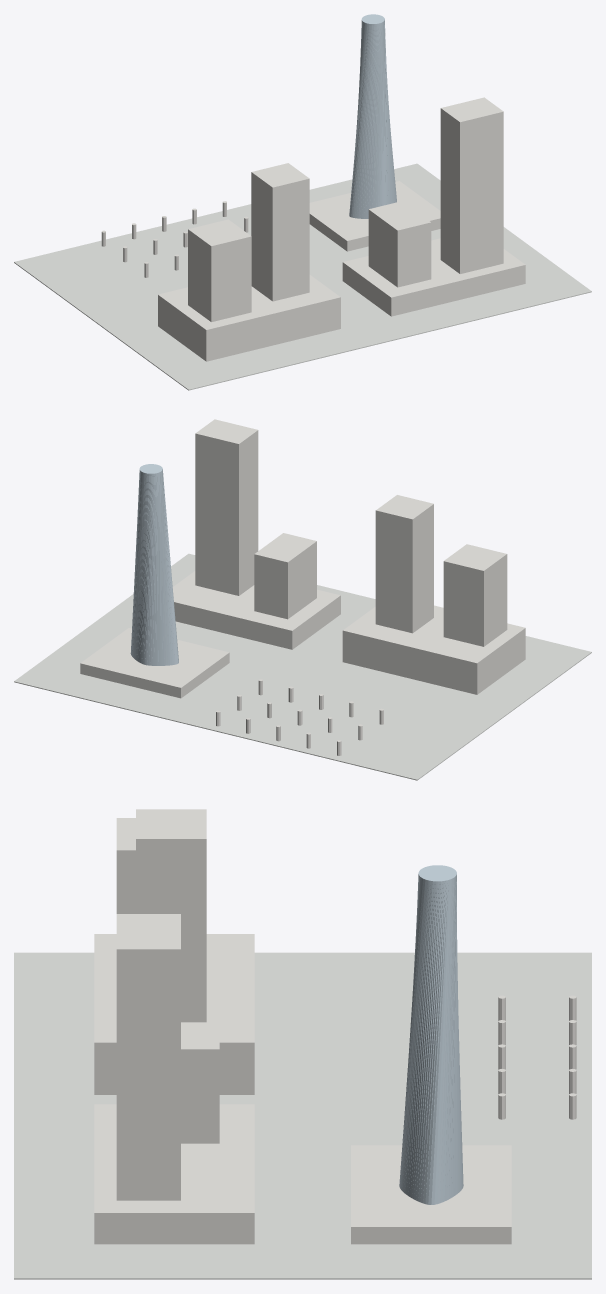
The model's file is urban.glb.
3 views of the same model, one above another, from view 1: azimuth 30°, elevation 25°; view 2: azimuth 150°, elevation 25°; view 3: azimuth 270°, elevation 25° (orthographic). The views are drawn at different scales.
Visible parts, largest first — view 1: site, tower-b2, podium-a, tower-a2, landmark, podium-b, tower-a1, tower-b1, podium-c; view 2: site, tower-b2, podium-a, tower-a2, landmark, podium-b, tower-a1, podium-c, tower-b1; view 3: site, tower-b2, landmark, podium-b, podium-c, podium-a, tower-a2, tower-b1, tower-a1.
Part boxes in pixels (x1,y1,x2,y2): site: (14, 163, 591, 390); tower-b2: (440, 97, 503, 273); podium-a: (158, 275, 340, 361); tower-a2: (251, 163, 309, 301); landmark: (349, 14, 396, 218); podium-b: (342, 238, 525, 316); tower-a1: (188, 219, 251, 322); tower-b1: (368, 201, 431, 287); podium-c: (309, 181, 440, 251); site: (14, 553, 591, 780); tower-b2: (195, 419, 258, 595); podium-a: (342, 605, 525, 694); tower-a2: (375, 495, 433, 633); landmark: (130, 464, 178, 665); podium-b: (172, 571, 340, 649); tower-a1: (443, 544, 507, 646); podium-c: (80, 628, 229, 698); tower-b1: (254, 533, 316, 619); site: (14, 952, 591, 1279); tower-b2: (116, 914, 180, 1200); landmark: (399, 865, 463, 1204); podium-b: (94, 1104, 254, 1244); podium-c: (351, 1145, 511, 1244); podium-a: (94, 934, 254, 1094); tower-a2: (136, 809, 206, 1022); tower-b1: (181, 1022, 219, 1143); tower-a1: (116, 818, 135, 913).
Size of the model in its own units: 240 by 114 by 180.
